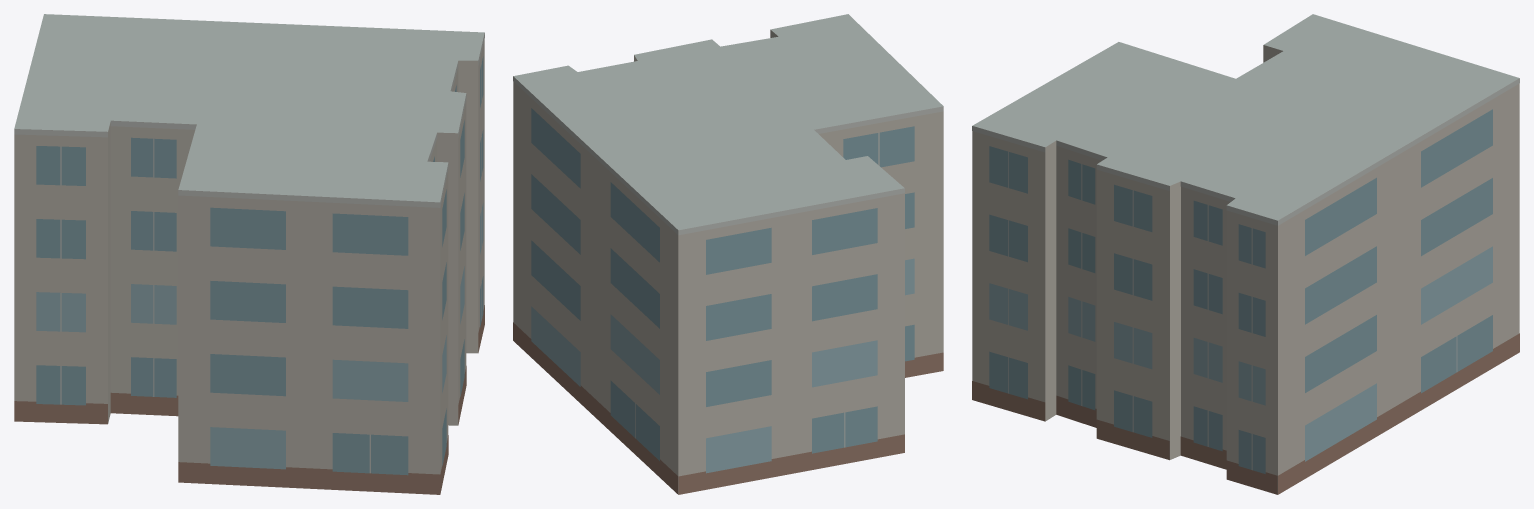
File: survey-upis-32551054.glb
The picture shows the model from 3 angles, left to right: view 1: azimuth 30°, elevation 25°; view 2: azimuth 150°, elevation 25°; view 3: azimuth 270°, elevation 25°; orthographic projection. The views are drawn at different scales.
Visible parts, largest first — view 1: survey-upis-32551054.tmp; view 2: survey-upis-32551054.tmp; view 3: survey-upis-32551054.tmp.
Boxes of the visible parts, box(x1,y1,x2,y2) form: survey-upis-32551054.tmp: box(14, 14, 484, 494); survey-upis-32551054.tmp: box(513, 14, 943, 494); survey-upis-32551054.tmp: box(972, 14, 1519, 494).
Size of the model in its own units: 20.86 by 12.9 by 23.36.
